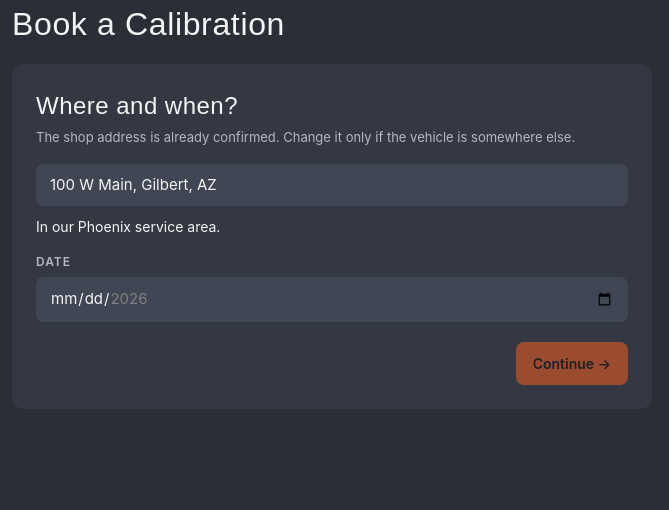
Scenario: a changed address is checked while typing, before the field loses focus
Later steps or results of the test are not shown.
Expected: the date field with test id "b-date" is enabled, x1=36 y1=277 x2=628 y2=322
Replace the text in the field with test id "b-addr" with "200 Other St, Mesa, AZ" at coordinates (332, 185), box x1=36 y1=164 x2=628 y2=206
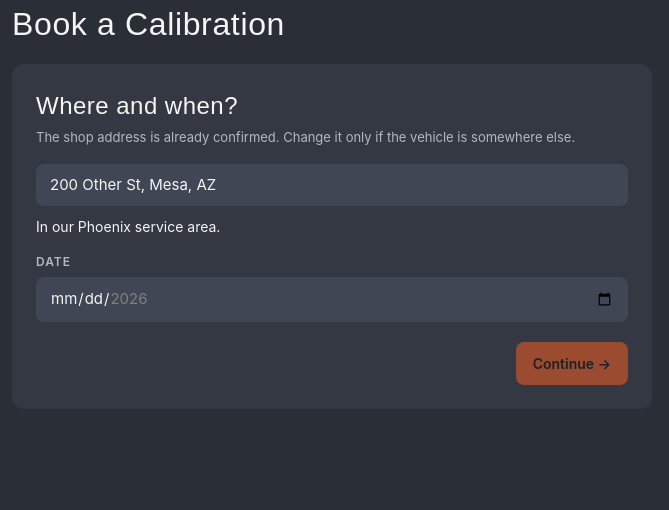
Type "2026-11-18" into the date field with test id "b-date" at coordinates (332, 299), box x1=36 y1=277 x2=628 y2=322
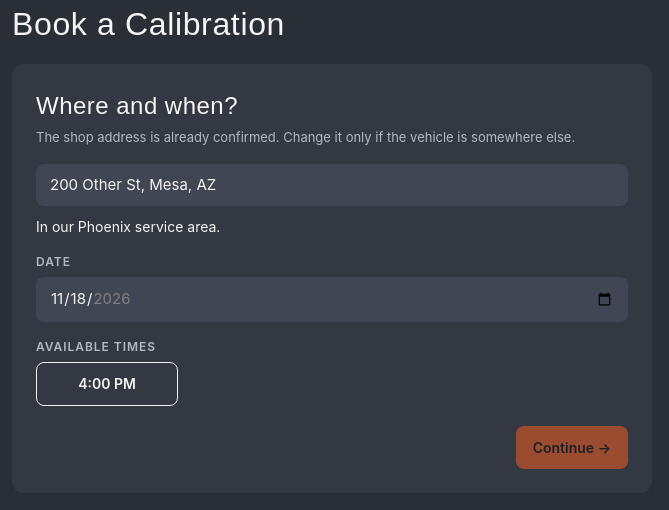
Click the button with test id "b-slot-2026-11-18T16:00:00Z" at coordinates (107, 384), box x1=36 y1=362 x2=178 y2=406
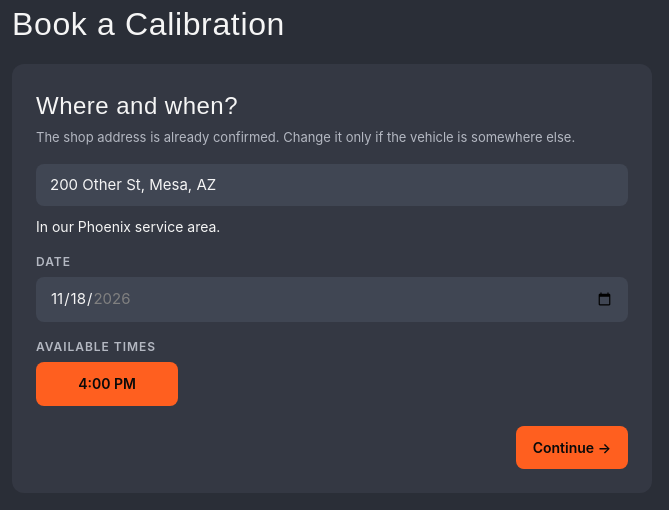
Expected: the button with test id "b-next" is enabled, x1=516 y1=426 x2=628 y2=468
